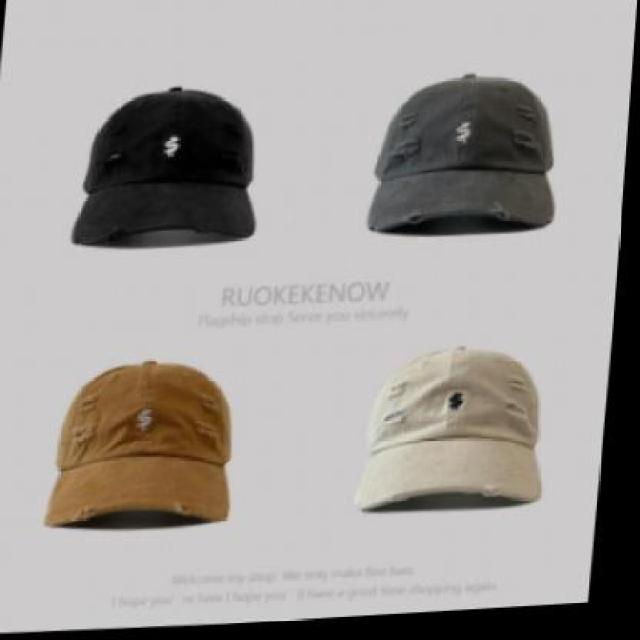hat: (47, 350, 255, 545), (357, 337, 563, 532), (365, 68, 572, 250), (72, 78, 274, 253)
